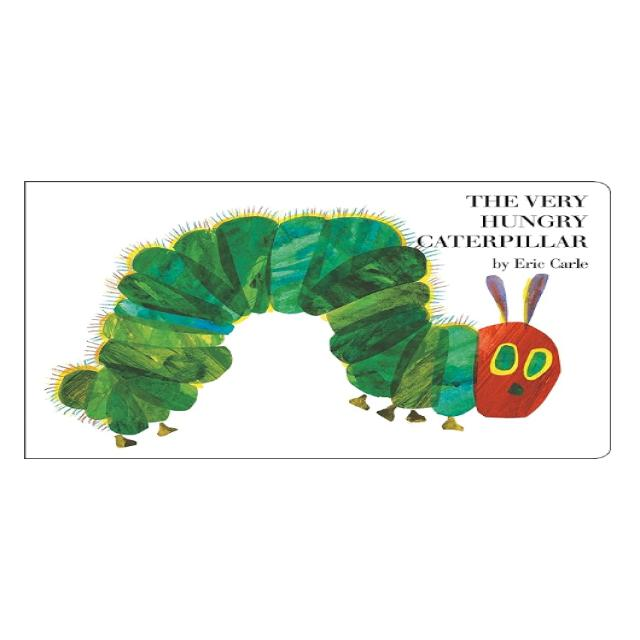titles-or-authors: (412, 188, 594, 252), (510, 253, 594, 272)
